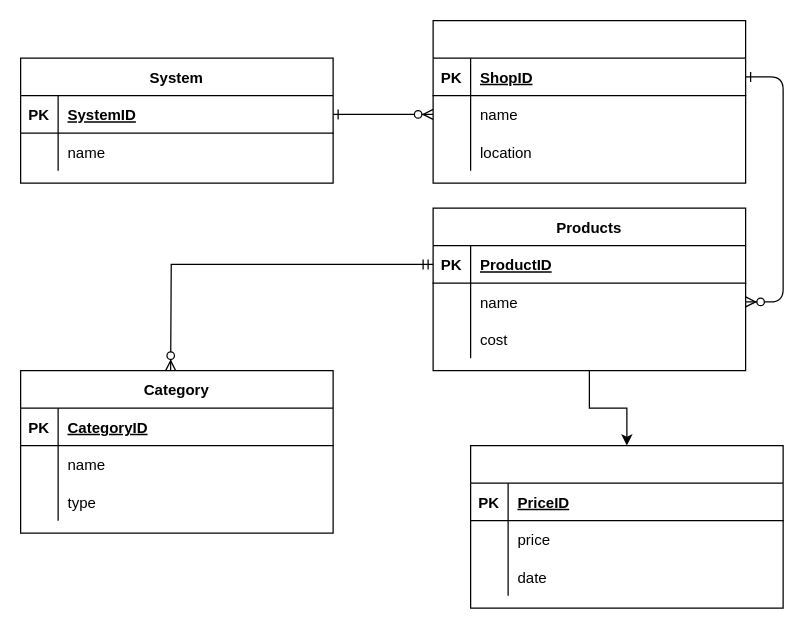
The diagram is 804 pixels wide and 629 high, and some of its shapes have lost their labels. The shapes that lost their labels are listed below. From the top down, each one's box as (x1, y1, x2, y2) in pixels, then its label:
(432, 19, 746, 183): Shops
(469, 444, 783, 608): Prices
